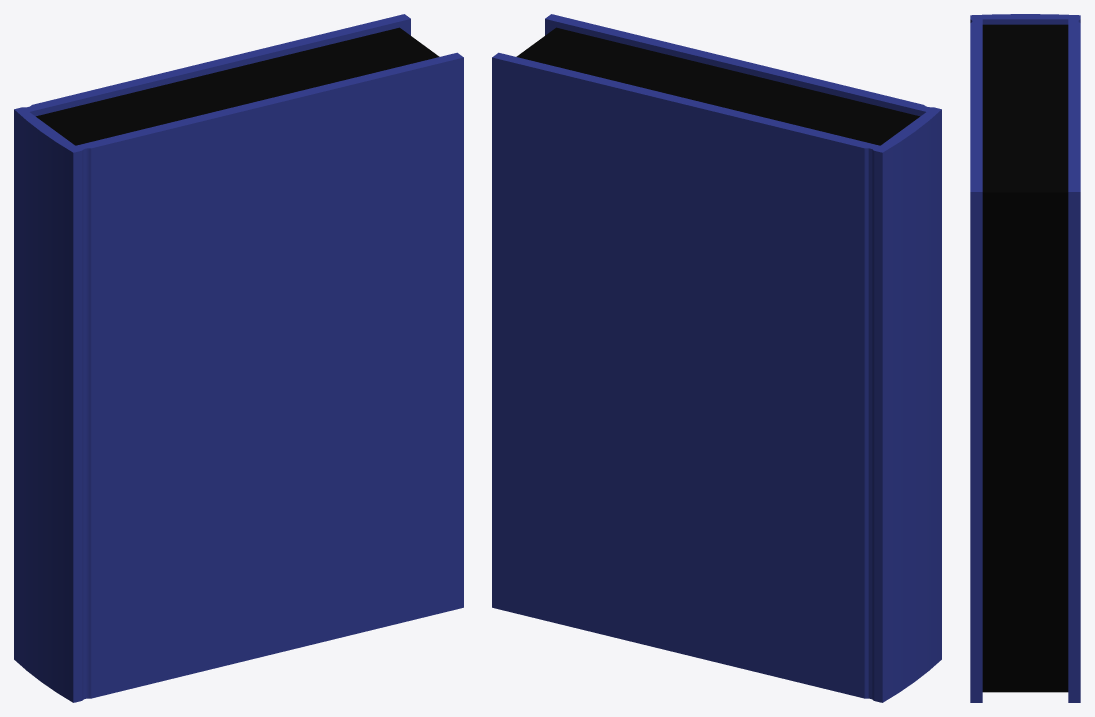
Rendered from Book Large.fbx.
The picture shows the model from 3 angles, left to right: view 1: azimuth 30°, elevation 25°; view 2: azimuth 150°, elevation 25°; view 3: azimuth 270°, elevation 25°; orthographic projection. The views are drawn at different scales.
Visible parts, largest first — view 1: Body1; view 2: Body1; view 3: Body1, Body3, Body4, Body6, Body7, Body8, Body9, Body10, Body11, Body20, Body21, Body22 (+79 smaller).
Part boxes in pixels (x1,y1,x2,y2): Body1: [14, 14, 463, 702]; Body1: [492, 14, 941, 702]; Body1: [970, 14, 1080, 702]; Body3: [1067, 24, 1068, 692]; Body4: [1066, 24, 1067, 692]; Body6: [1064, 24, 1065, 692]; Body7: [1063, 24, 1064, 692]; Body8: [1062, 24, 1063, 692]; Body9: [1061, 24, 1062, 692]; Body10: [1060, 24, 1061, 692]; Body11: [1059, 24, 1060, 692]; Body20: [1051, 24, 1052, 692]; Body21: [1050, 24, 1051, 692]; Body22: [1049, 24, 1050, 692].
Size of the model in its own units: 215 by 288 by 56.25.
